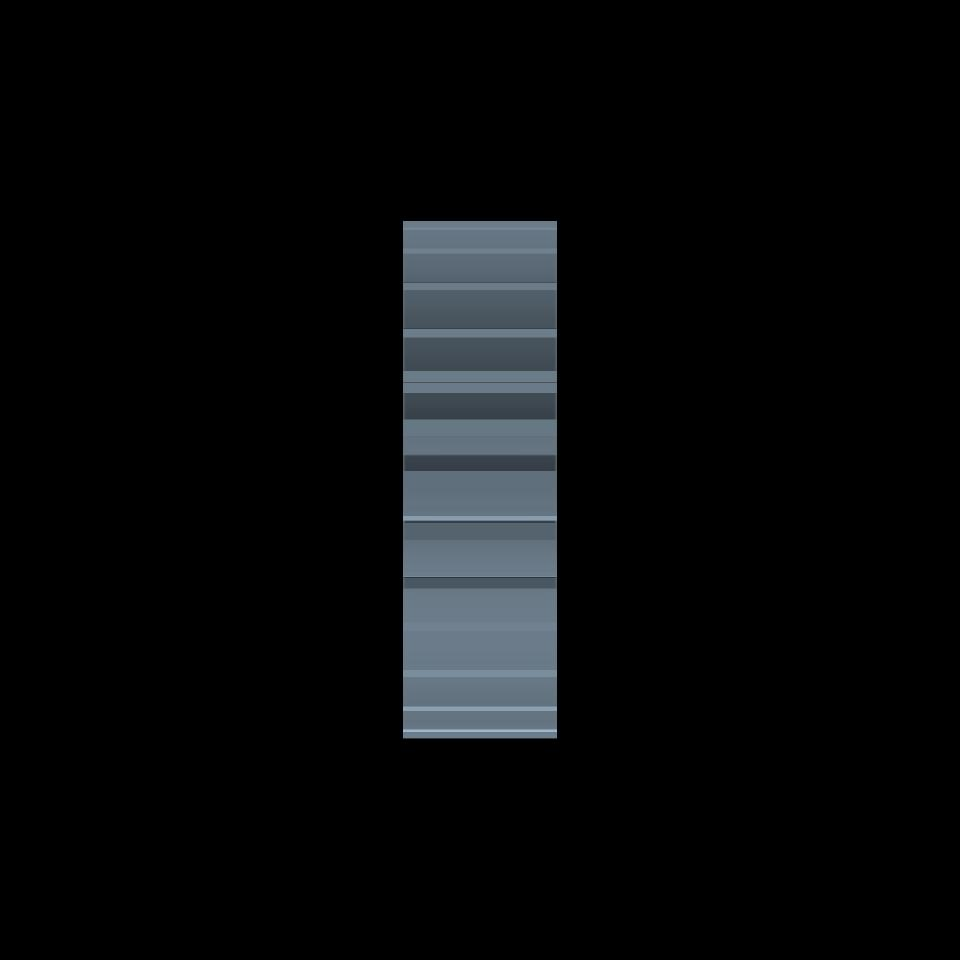Straight: (404, 221, 555, 736)
